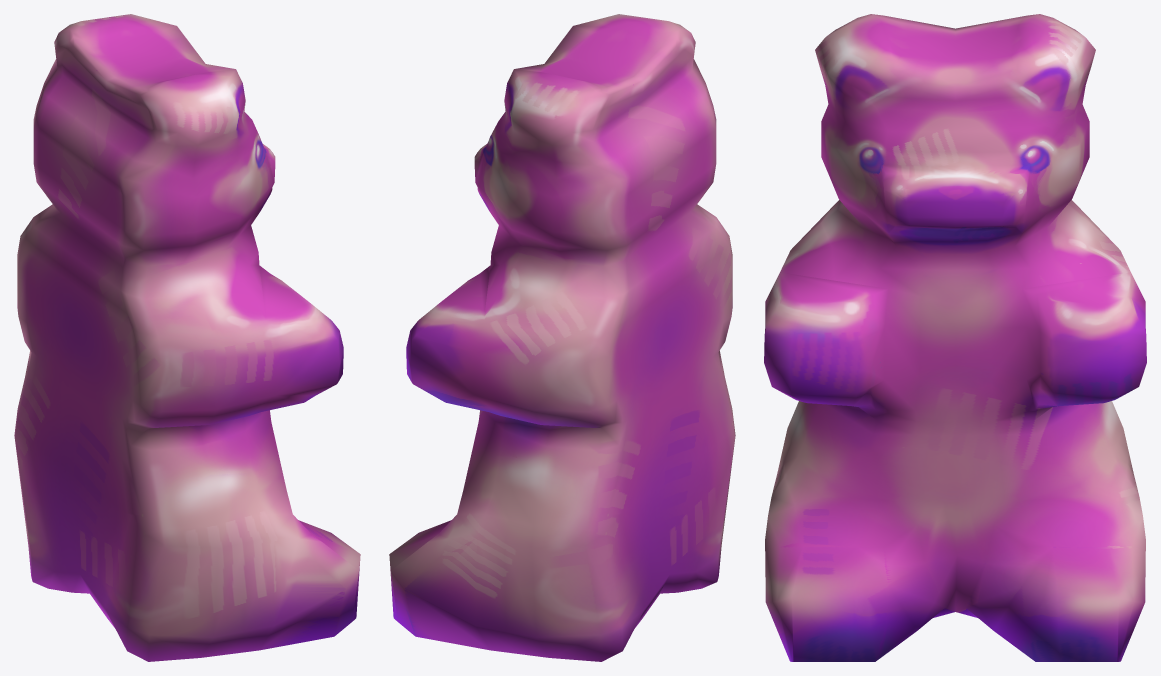
Rendered from GummyBear(4).fbx.
3 renders of one model, left to right at view 1: azimuth 30°, elevation 25°; view 2: azimuth 150°, elevation 25°; view 3: azimuth 270°, elevation 25°, orthographic. The views are drawn at different scales.
Parts seen in each view (by area): view 1: Gummybear; view 2: Gummybear; view 3: Gummybear.
Part boxes in pixels (box(x1,y1,x2,y2)): Gummybear: box(14, 14, 360, 661); Gummybear: box(389, 14, 735, 661); Gummybear: box(764, 14, 1146, 661).
Bounding box in the file's own units: 164 × 427 × 257.
Materials: 1 (1 with a texture image).
